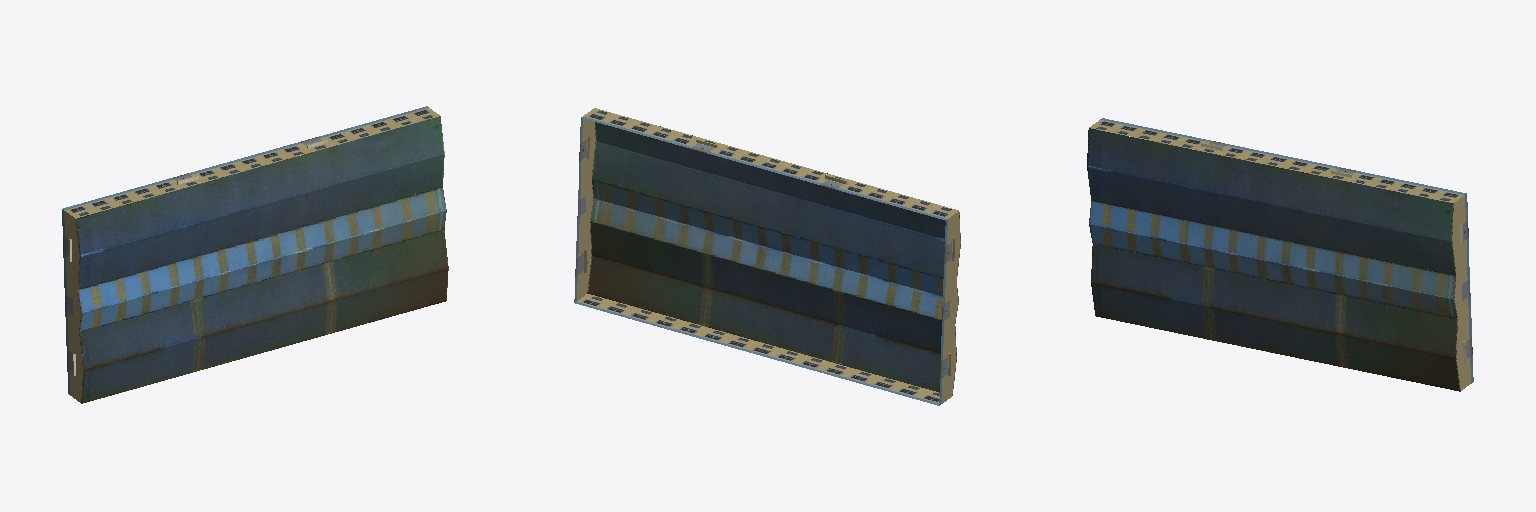
3 views of the same model, side by side, from view 1: azimuth 30°, elevation 25°; view 2: azimuth 150°, elevation 25°; view 3: azimuth 330°, elevation 25° (orthographic).
Parts seen in each view (by area): view 1: Group_MatrixTransform_i96001_Geometry_6, Group_MatrixTransform_i96001_Geometry_2, Group_MatrixTransform_i96001_Geometry_5, Group_MatrixTransform_i96001_Geometry_0; view 2: Group_MatrixTransform_i96001_Geometry_6, Group_MatrixTransform_i96001_Geometry_2, Group_MatrixTransform_i96001_Geometry_5, Group_MatrixTransform_i96001_Geometry_0, Group_MatrixTransform_i96001_Geometry_3; view 3: Group_MatrixTransform_i96001_Geometry_6, Group_MatrixTransform_i96001_Geometry_2, Group_MatrixTransform_i96001_Geometry_5, Group_MatrixTransform_i96001_Geometry_0.
Part boxes in pixels (left/top/right/bottom): Group_MatrixTransform_i96001_Geometry_6: left=76, top=116, right=448, bottom=403; Group_MatrixTransform_i96001_Geometry_2: left=63, top=106, right=439, bottom=218; Group_MatrixTransform_i96001_Geometry_5: left=69, top=140, right=326, bottom=403; Group_MatrixTransform_i96001_Geometry_0: left=64, top=280, right=76, bottom=399; Group_MatrixTransform_i96001_Geometry_6: left=588, top=122, right=945, bottom=392; Group_MatrixTransform_i96001_Geometry_2: left=575, top=108, right=958, bottom=405; Group_MatrixTransform_i96001_Geometry_5: left=583, top=121, right=960, bottom=398; Group_MatrixTransform_i96001_Geometry_0: left=574, top=183, right=951, bottom=405; Group_MatrixTransform_i96001_Geometry_3: left=579, top=118, right=954, bottom=291; Group_MatrixTransform_i96001_Geometry_6: left=1087, top=128, right=1459, bottom=391; Group_MatrixTransform_i96001_Geometry_2: left=1089, top=118, right=1466, bottom=202; Group_MatrixTransform_i96001_Geometry_5: left=1202, top=143, right=1466, bottom=391; Group_MatrixTransform_i96001_Geometry_0: left=1461, top=267, right=1473, bottom=387.
Size of the model in its own units: 86.75 by 44.46 by 6.74.
8 materials, 8 textured.